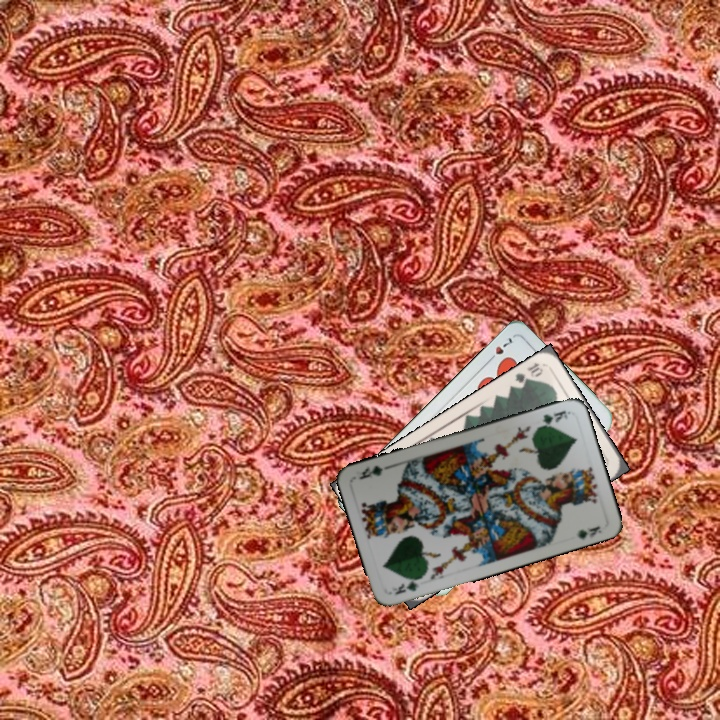G10: (511, 358, 546, 388)
GK: (388, 572, 425, 597), (538, 406, 571, 426)
H7: (483, 333, 517, 365)
